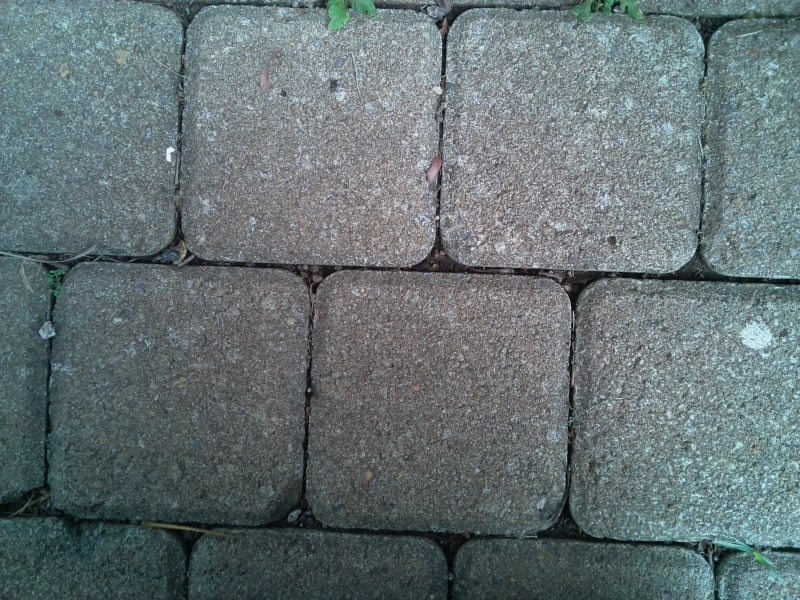Weed: (717, 537, 779, 571), (576, 1, 648, 25), (320, 1, 380, 28), (48, 266, 69, 297)
